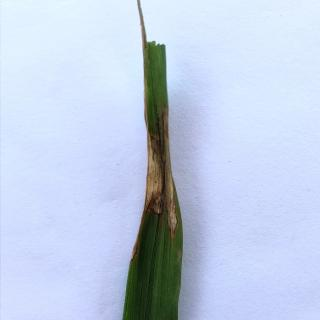Hawar-Daun: (121, 36, 198, 312)
